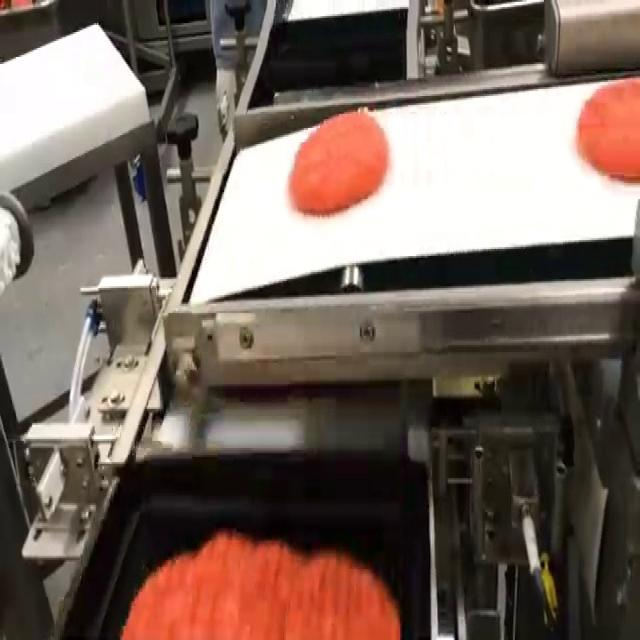4-hamburguer: (121, 532, 400, 638)
